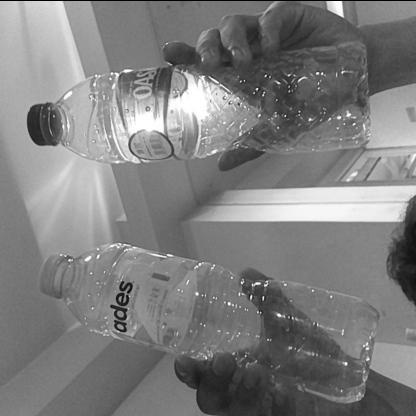plastic_bottles: (42, 246, 370, 399), (25, 44, 363, 164)
